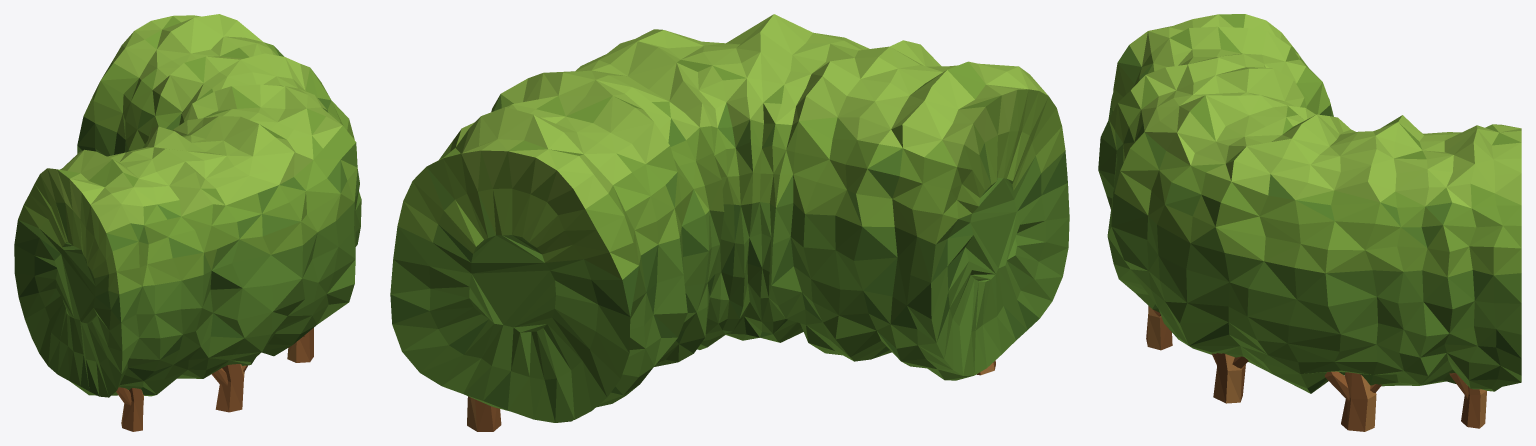
The model's file is FMS_Hedge_Corner.fbx.
3 views of the same model, side by side, from view 1: azimuth 30°, elevation 25°; view 2: azimuth 150°, elevation 25°; view 3: azimuth 270°, elevation 25° (orthographic). The views are drawn at different scales.
Visible parts, largest first — view 1: FMS_Hedge_Corner; view 2: FMS_Hedge_Corner; view 3: FMS_Hedge_Corner.
Boxes of the visible parts, x1,y1,x2,y2 form: FMS_Hedge_Corner: [14, 14, 361, 431]; FMS_Hedge_Corner: [390, 14, 1069, 431]; FMS_Hedge_Corner: [1098, 14, 1521, 431].
Bounding box in the file's own units: 1.4 × 1 × 1.4.
